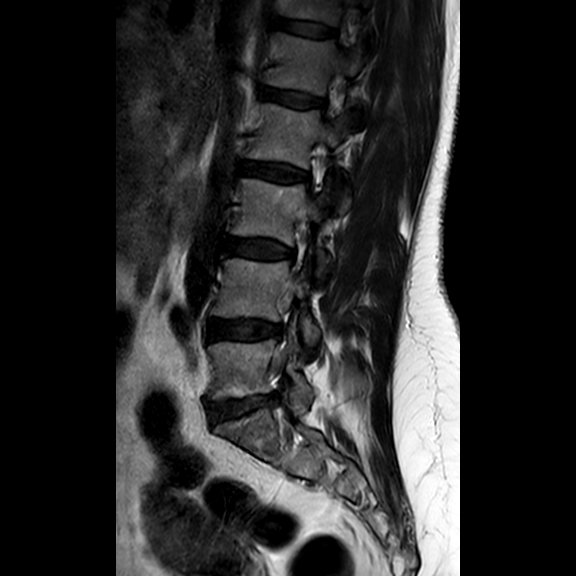RFS0: (295, 133, 342, 205), (305, 70, 358, 131)
